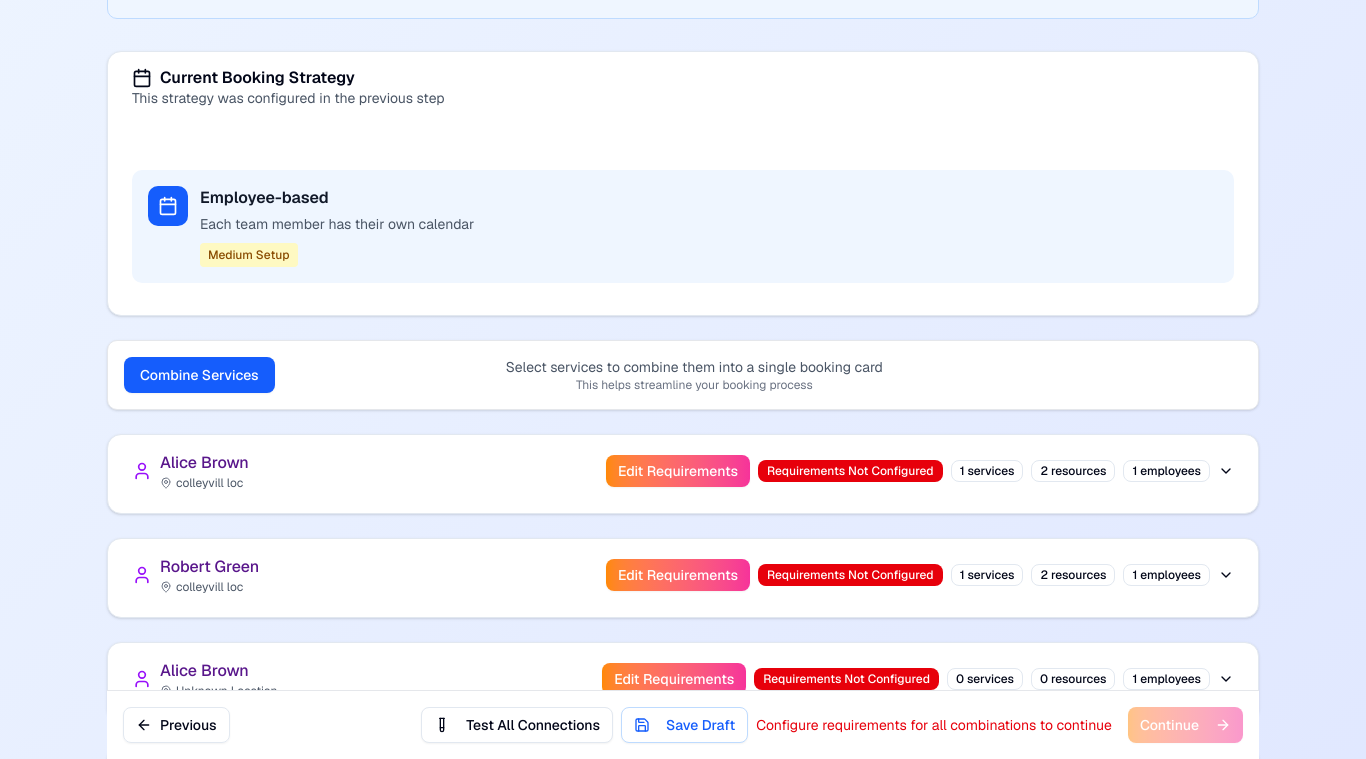
it: CalendarIntegrationPage - Employee Strategy › handles combining mode for employee strategy
The width and height of the screenshot is (1366, 759).
(page scrolled)
Note: Click to enable combining mode
Click the button with test id "combine-services-button". click: point(199, 375)
box: [124, 357, 275, 393]
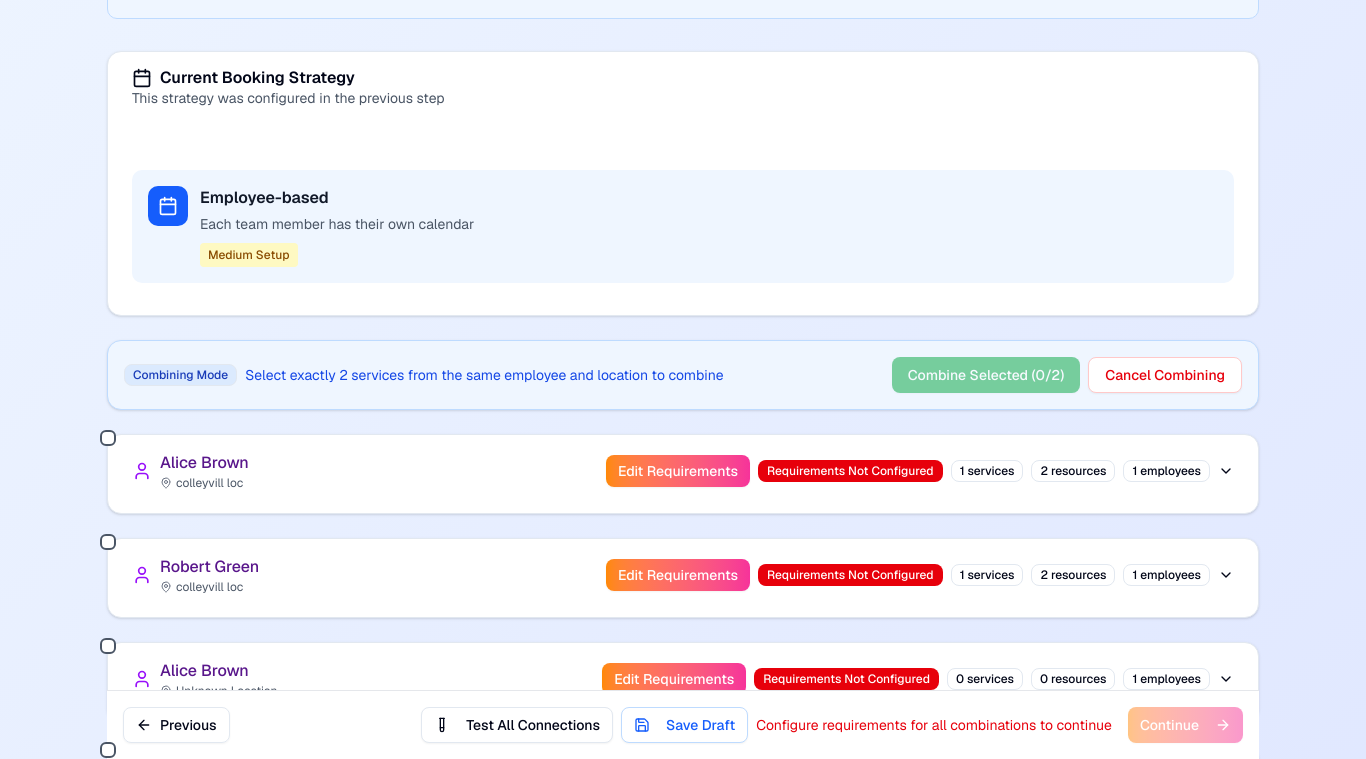
Check: the text "Select exactly 2 services from the same employee and location to combine" is shown, box [245, 365, 724, 385]
